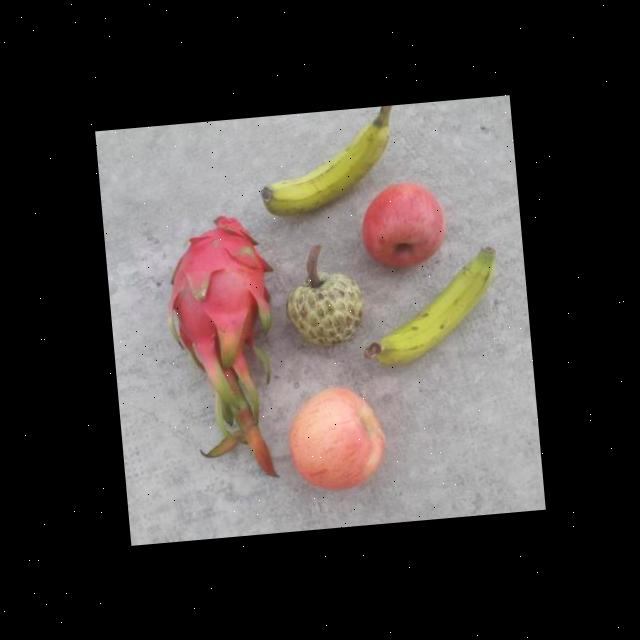Sakya fruit: (280, 268, 370, 350)
apple: (284, 379, 390, 497), (355, 178, 451, 272)
banana: (364, 243, 502, 369), (254, 118, 398, 216)
pitaya: (154, 210, 288, 384)
